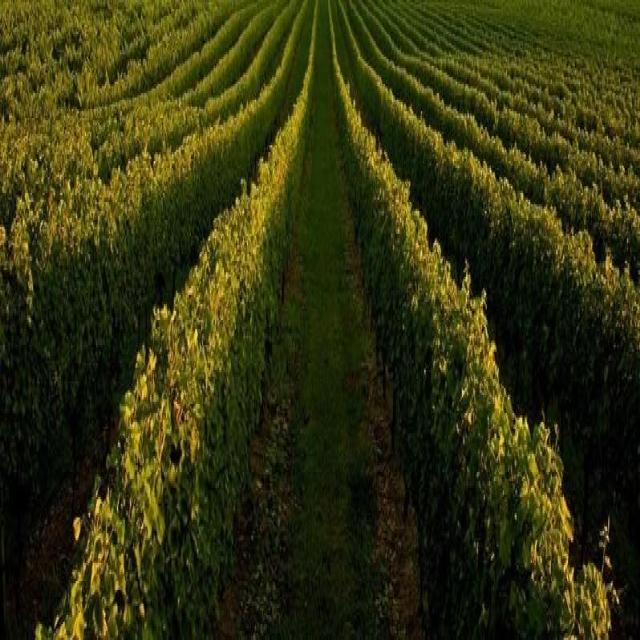row: (215, 19, 463, 640)
